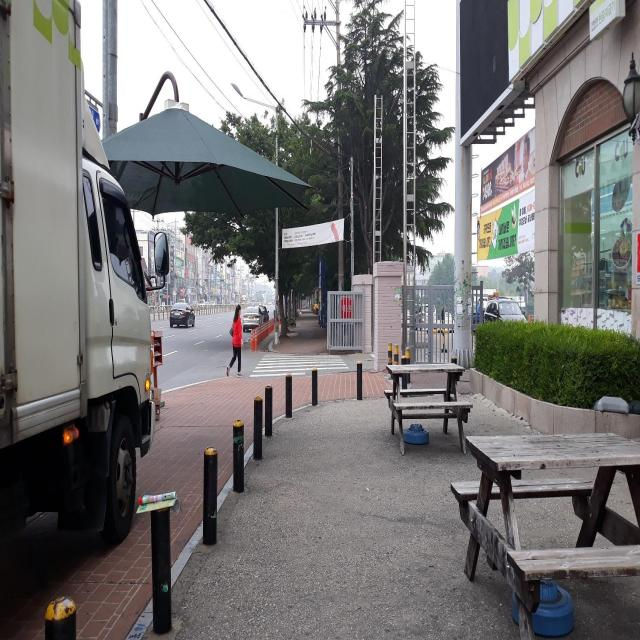횡단보도: (248, 352, 349, 378)
